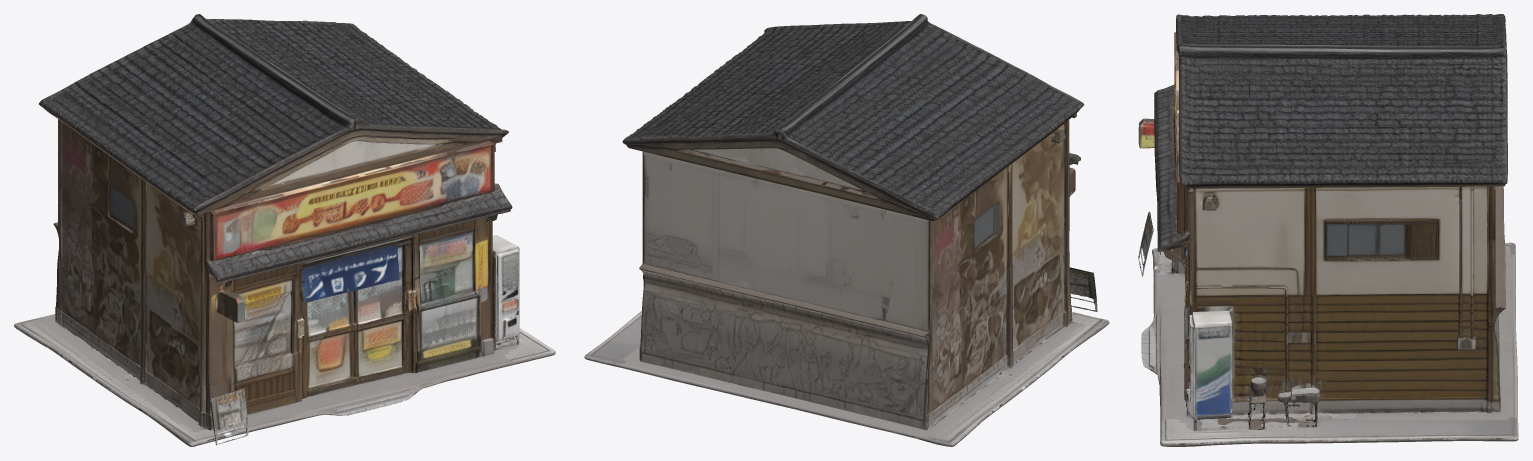
File: building.glb
3 views of the same model, side by side, from view 1: azimuth 30°, elevation 25°; view 2: azimuth 150°, elevation 25°; view 3: azimuth 270°, elevation 25° (orthographic). The views are drawn at different scales.
Parts seen in each view (by area): view 1: model; view 2: model; view 3: model.
Part boxes in pixels (<box>): model: <box>14,14,555,446</box>; model: <box>584,14,1109,446</box>; model: <box>1138,14,1518,446</box>.
Bounding box in the file's own units: 1.9 × 1.33 × 1.52.
Materials: 1 (1 with a texture image).
